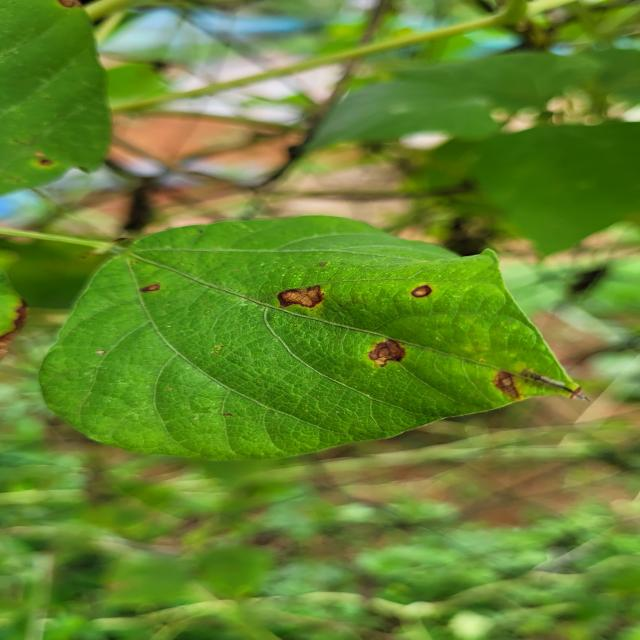Dolicos bean_cercospora leaf spot: (34, 218, 585, 460), (0, 0, 144, 202)
Dolicos bean_healthy: (460, 109, 640, 267)
